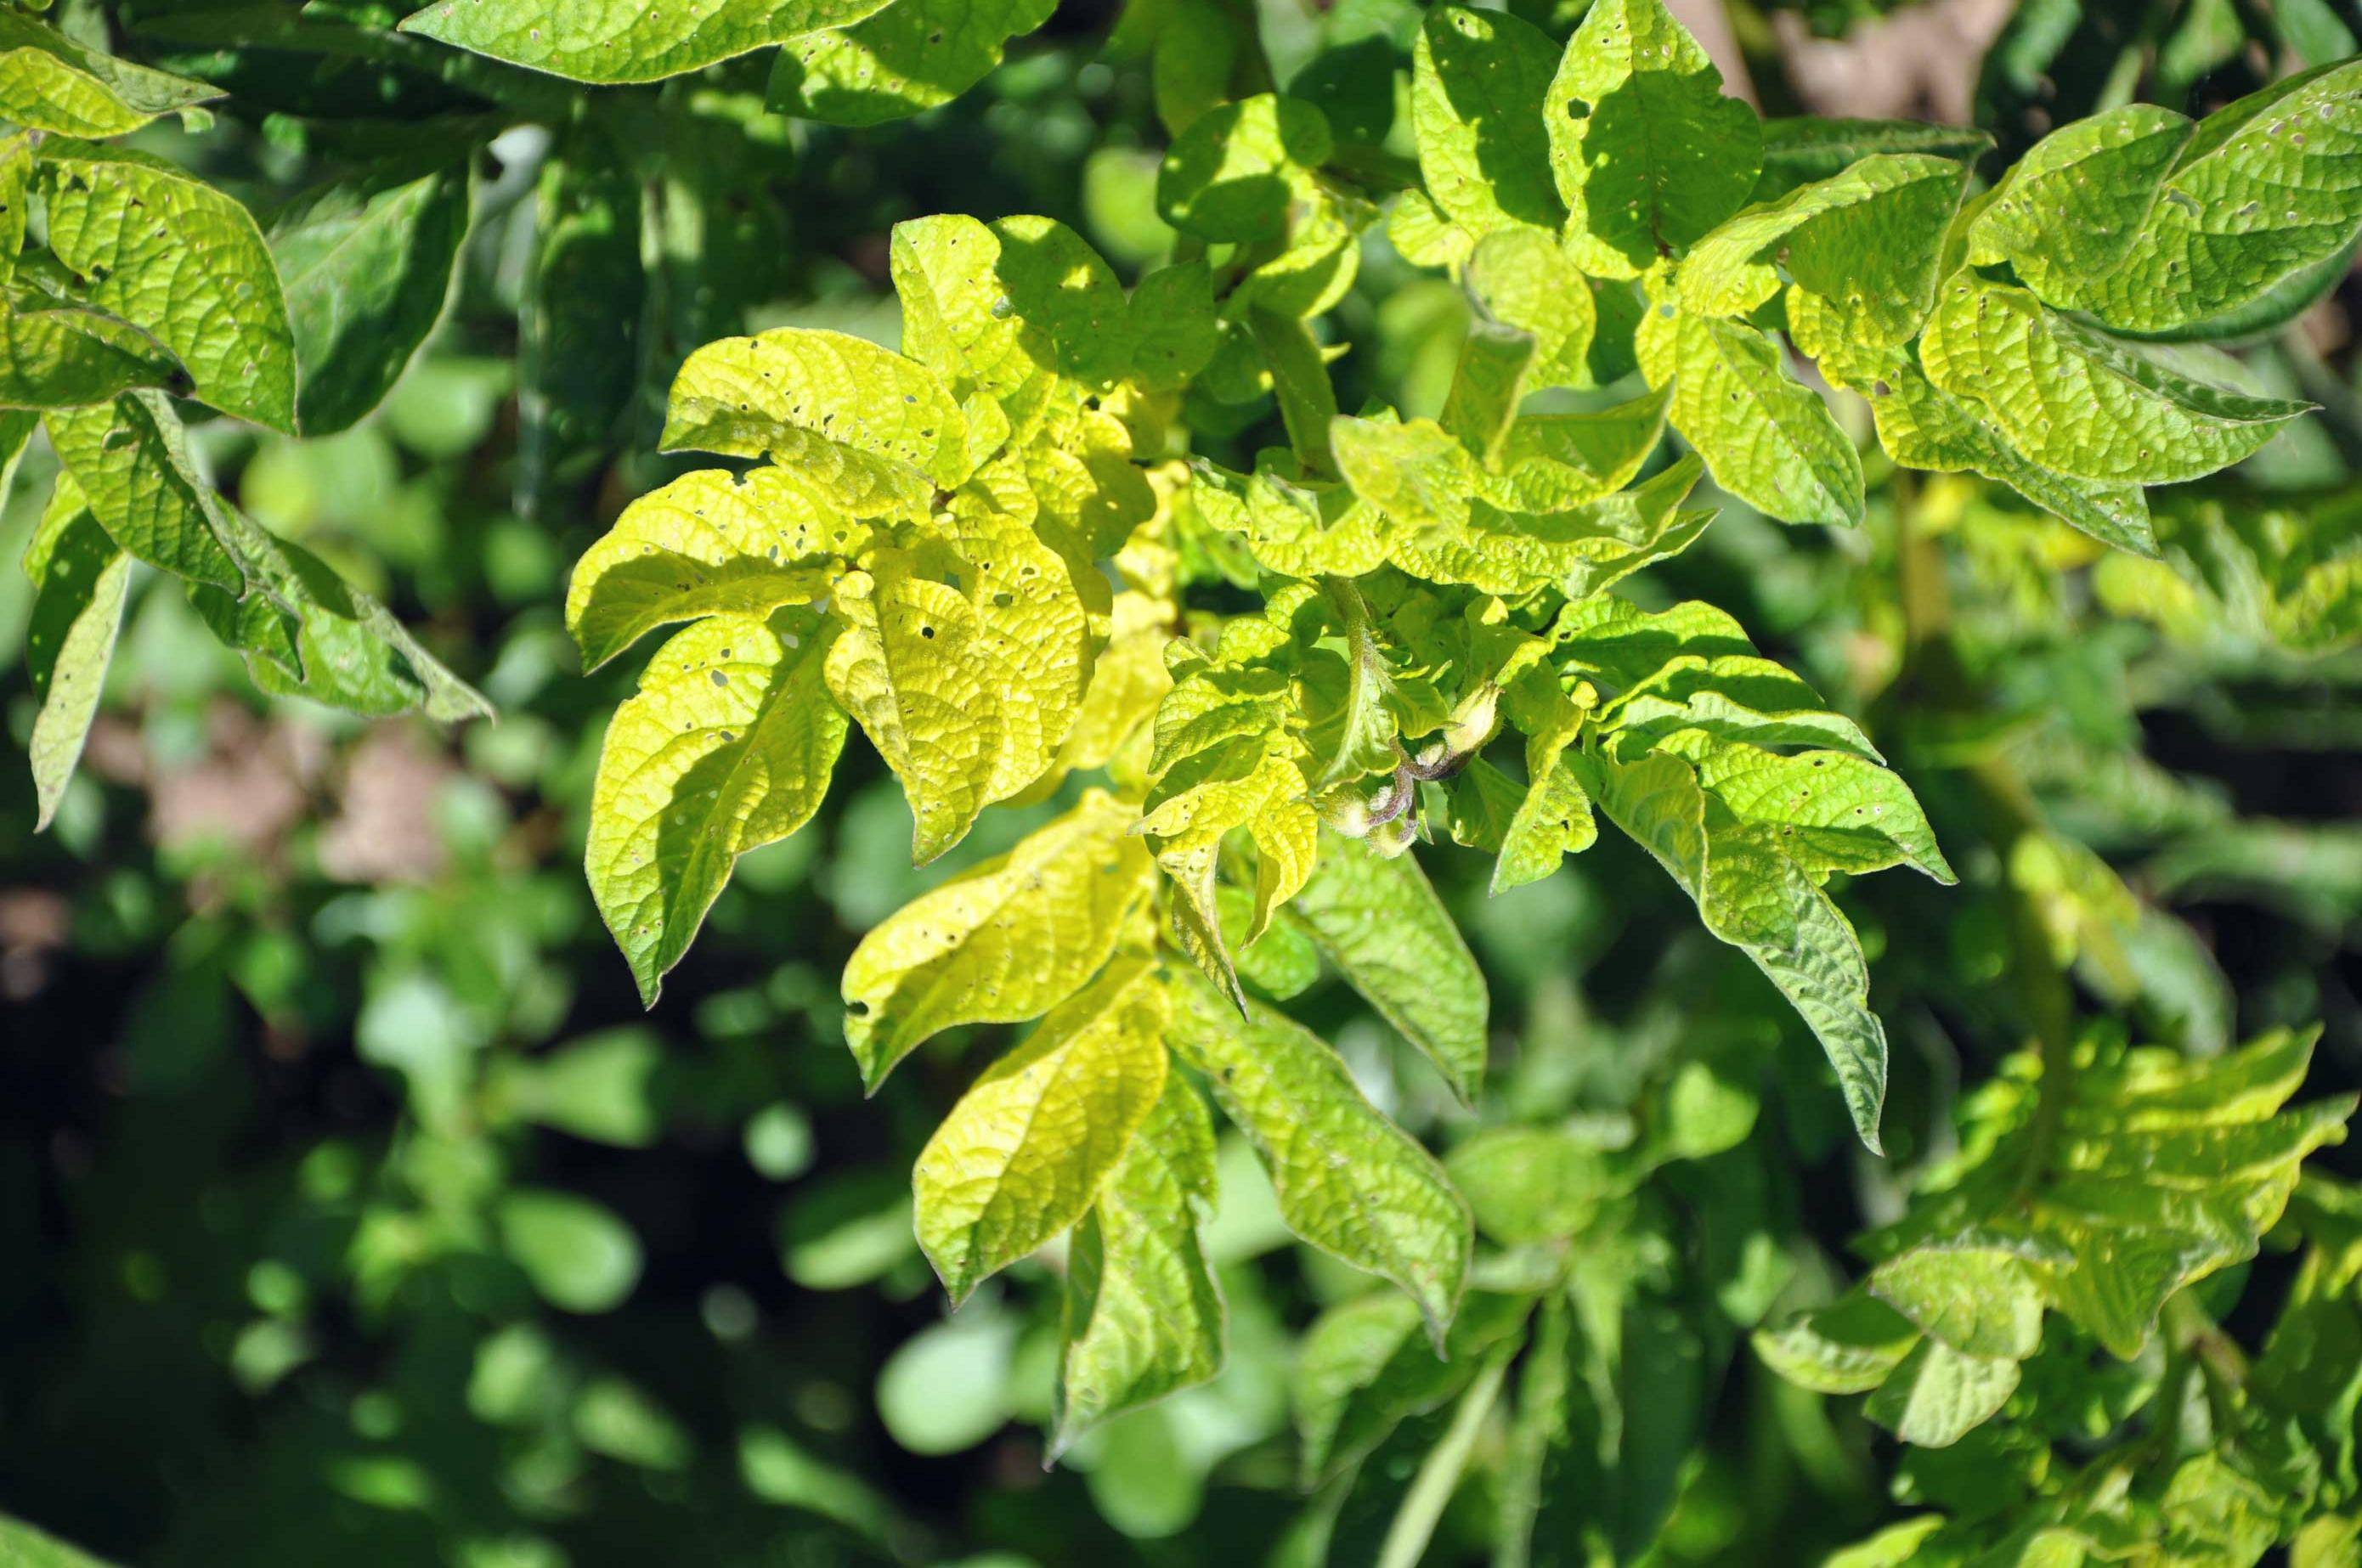Tomato leaf yellow virus: (522, 638, 868, 991), (1, 100, 323, 478), (1202, 1003, 1512, 1368), (1601, 180, 1879, 582), (1321, 345, 1728, 618), (1890, 246, 2307, 504), (899, 966, 1196, 1306), (822, 768, 1142, 1079), (1633, 692, 1975, 924), (837, 530, 1015, 889)
